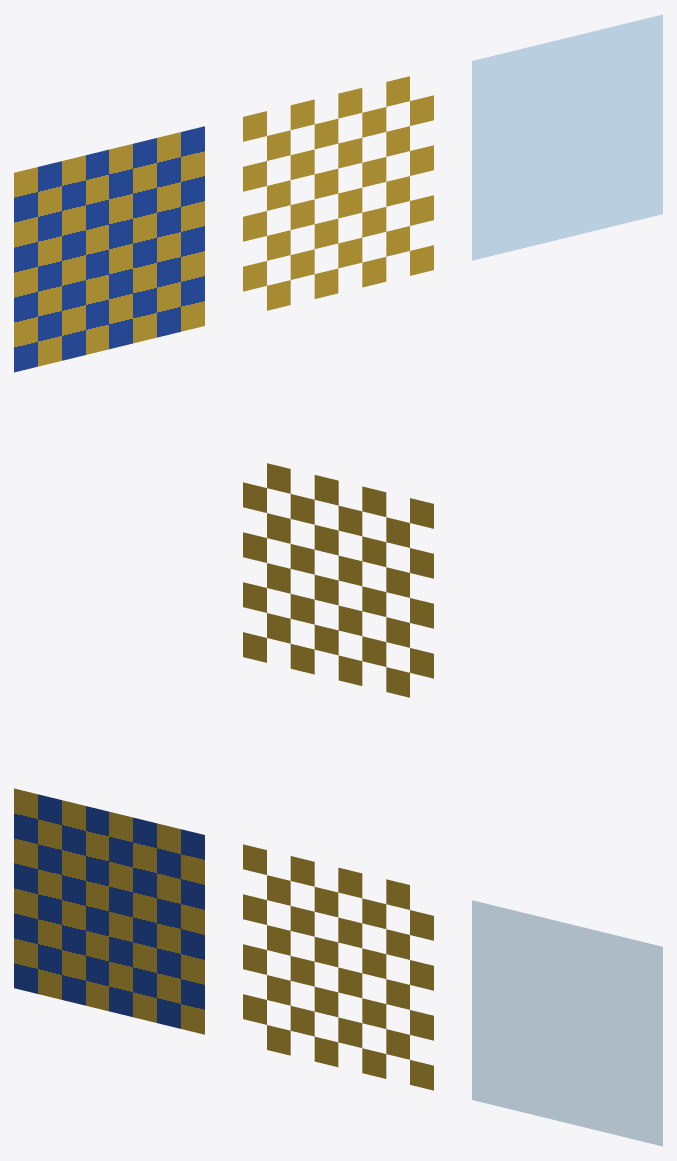
The model's file is materials.gltf.
3 views of the same model, one above another, from view 1: azimuth 30°, elevation 25°; view 2: azimuth 150°, elevation 25°; view 3: azimuth 330°, elevation 25° (orthographic).
Size of the model in its own units: 3.4 by 1 by 0.
Materials: 3 (2 with a texture image).
